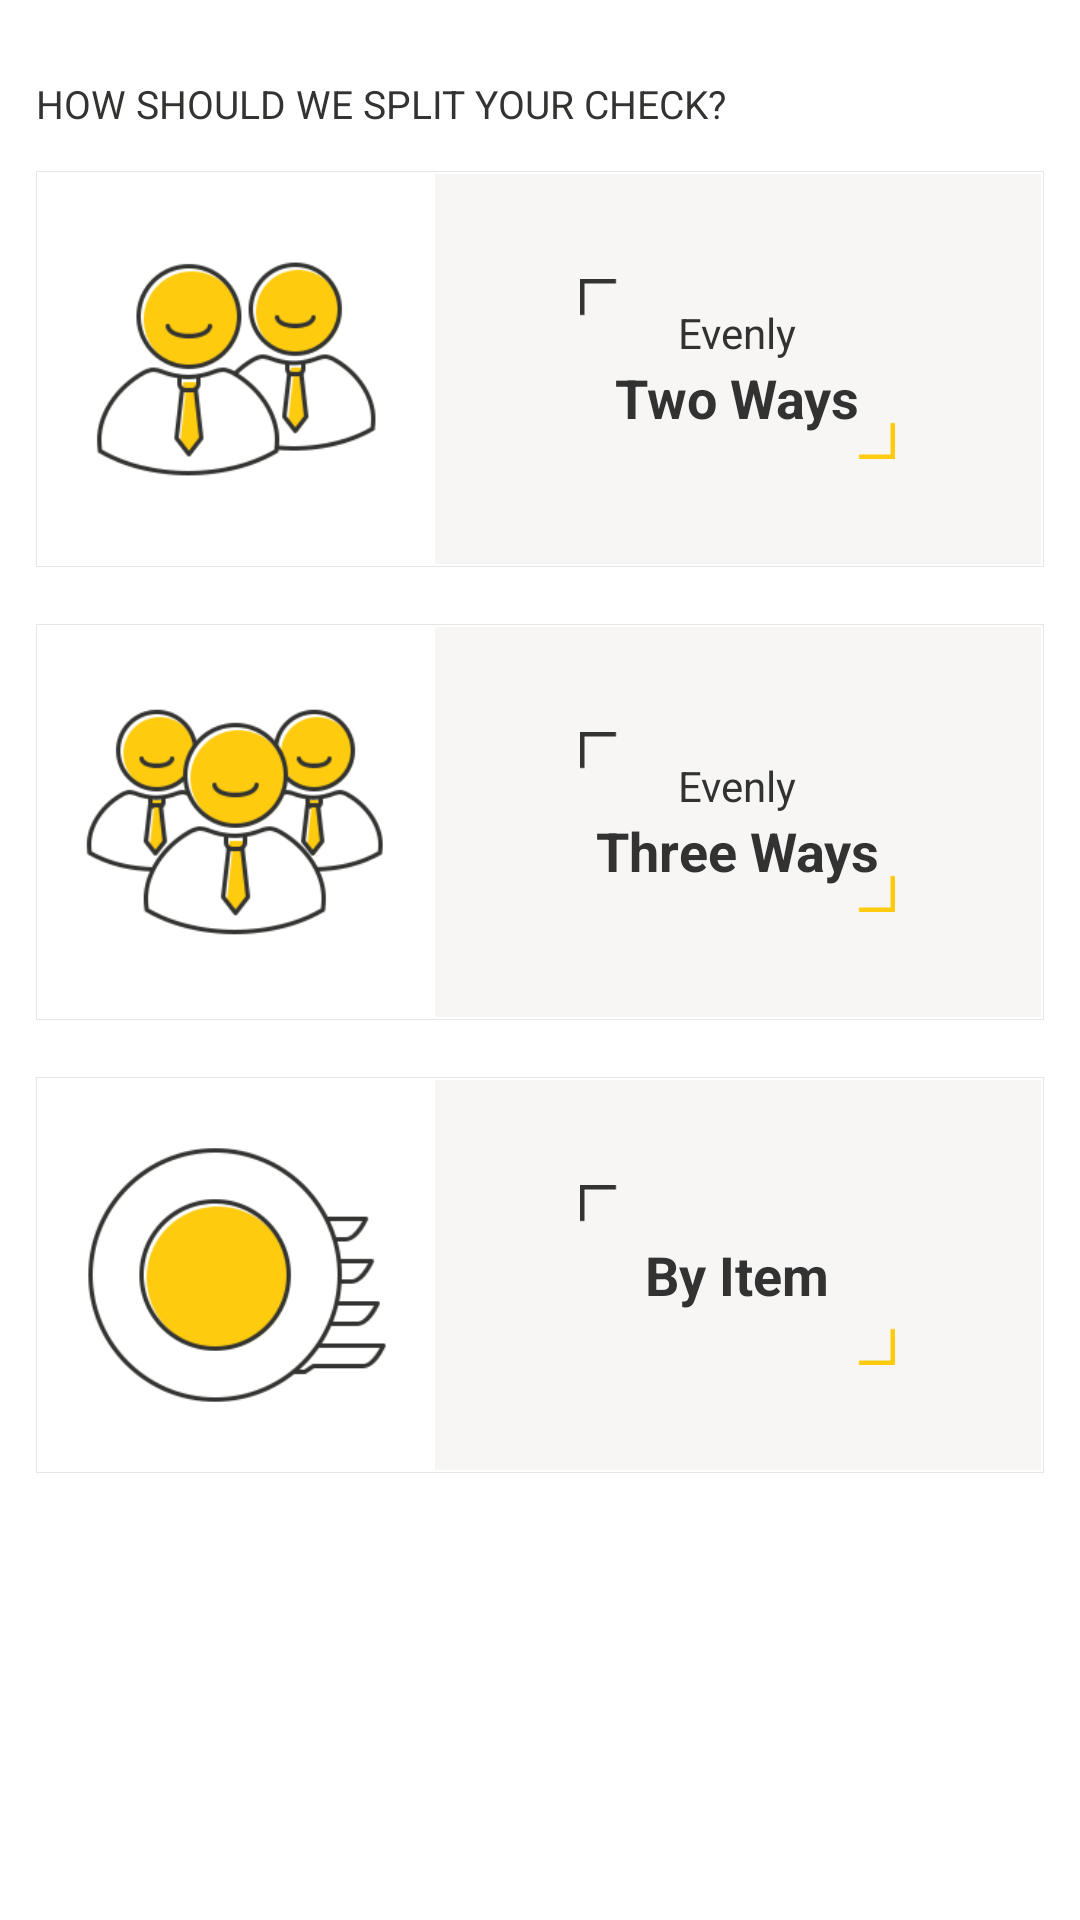

Icons on this 1080px×1920px Android screen, each with the point to tap as (x=x, y=y):
three ways: (x=234, y=822)
two ways: (x=236, y=369)
